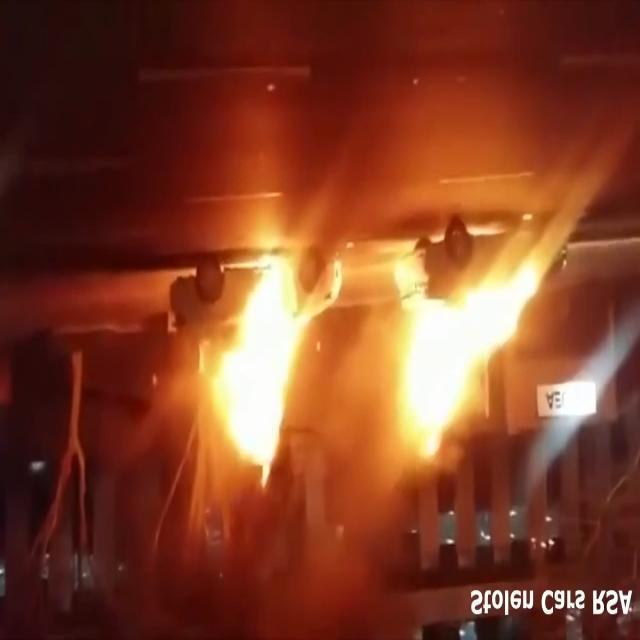fire: (394, 233, 541, 460), (217, 249, 323, 484)
